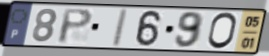6: (134, 9, 164, 49)
8: (31, 7, 59, 43)
9: (172, 10, 206, 50)
I: (109, 7, 130, 48)
O: (205, 11, 239, 51)
P: (56, 8, 94, 46)
